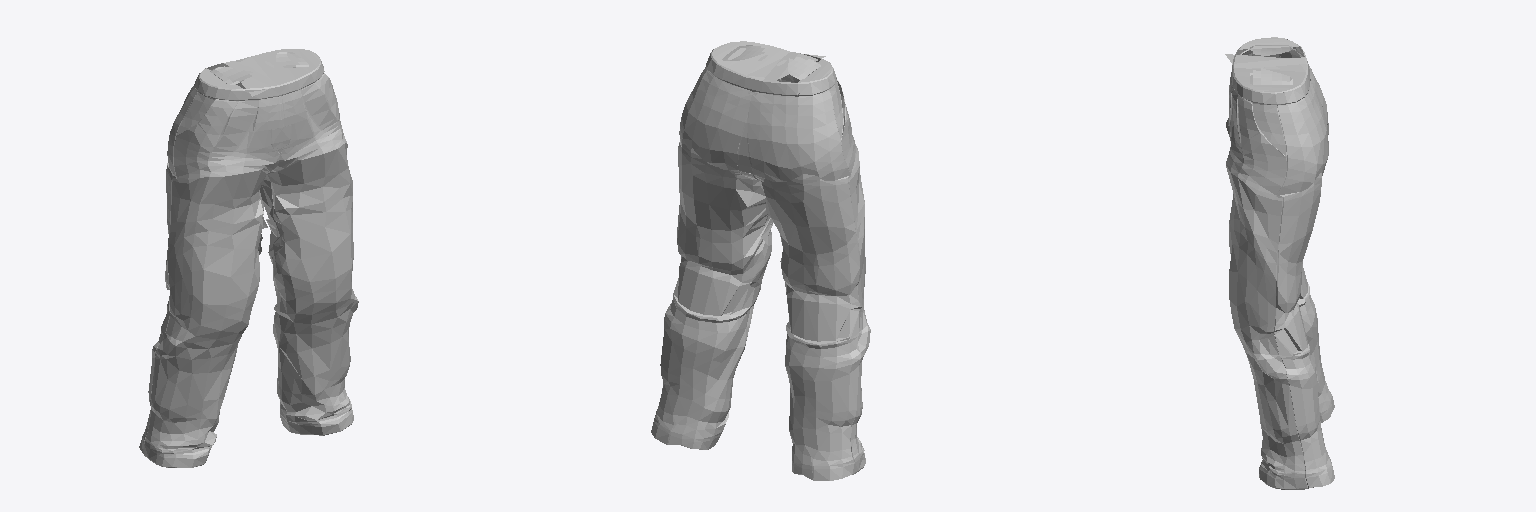
The model's file is jeans11.obj.
3 views of the same model, side by side, from view 1: azimuth 30°, elevation 25°; view 2: azimuth 150°, elevation 25°; view 3: azimuth 270°, elevation 25° (orthographic).
Visible parts, largest first — view 1: Object60; view 2: Object60; view 3: Object60.
Part boxes in pixels (x1,y1,x2,y2): Object60: (139,49,358,467); Object60: (651,41,870,480); Object60: (1225,37,1334,489).
Size of the model in its own units: 6.06 by 11.33 by 2.92.